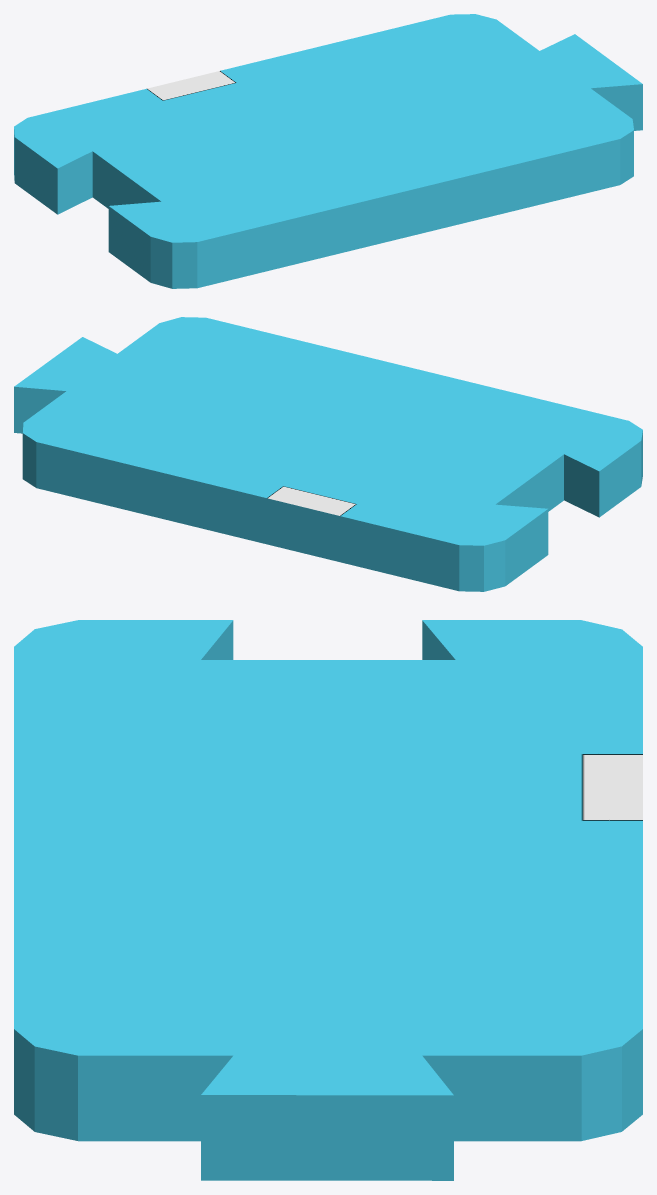
File: messagePZ.fbx
3 renders of one model, top to bottom at view 1: azimuth 30°, elevation 25°; view 2: azimuth 150°, elevation 25°; view 3: azimuth 270°, elevation 25°, orthographic. The views are drawn at different scales.
Visible parts, largest first — view 1: NormalPZ; view 2: NormalPZ; view 3: NormalPZ.
Part boxes in pixels (x1,y1,x2,y2): NormalPZ: (14,14,642,288); NormalPZ: (14,317,642,591); NormalPZ: (14,620,642,1180).
Size of the model in its own units: 17.88 by 1.5 by 10.
